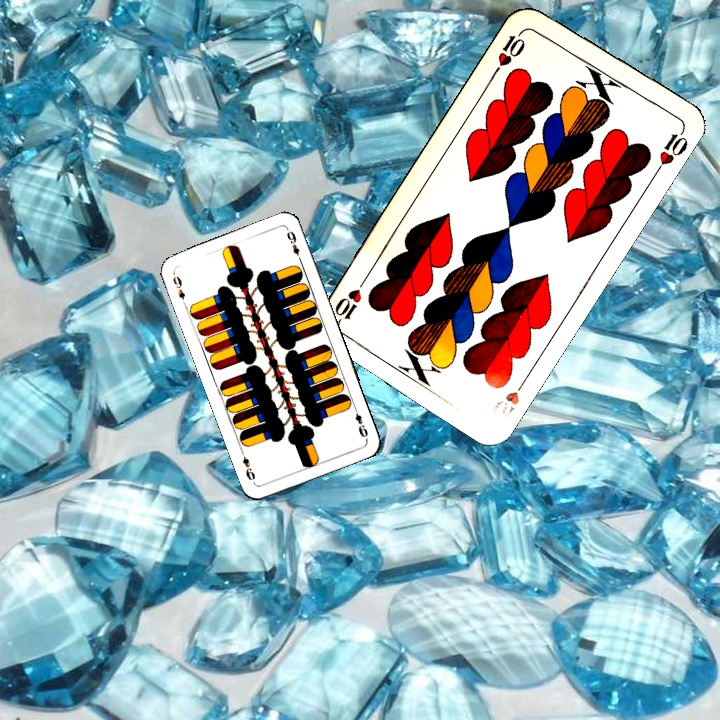E9: (349, 402, 371, 441), (169, 269, 189, 308)
H10: (487, 372, 531, 421), (489, 25, 528, 77)
